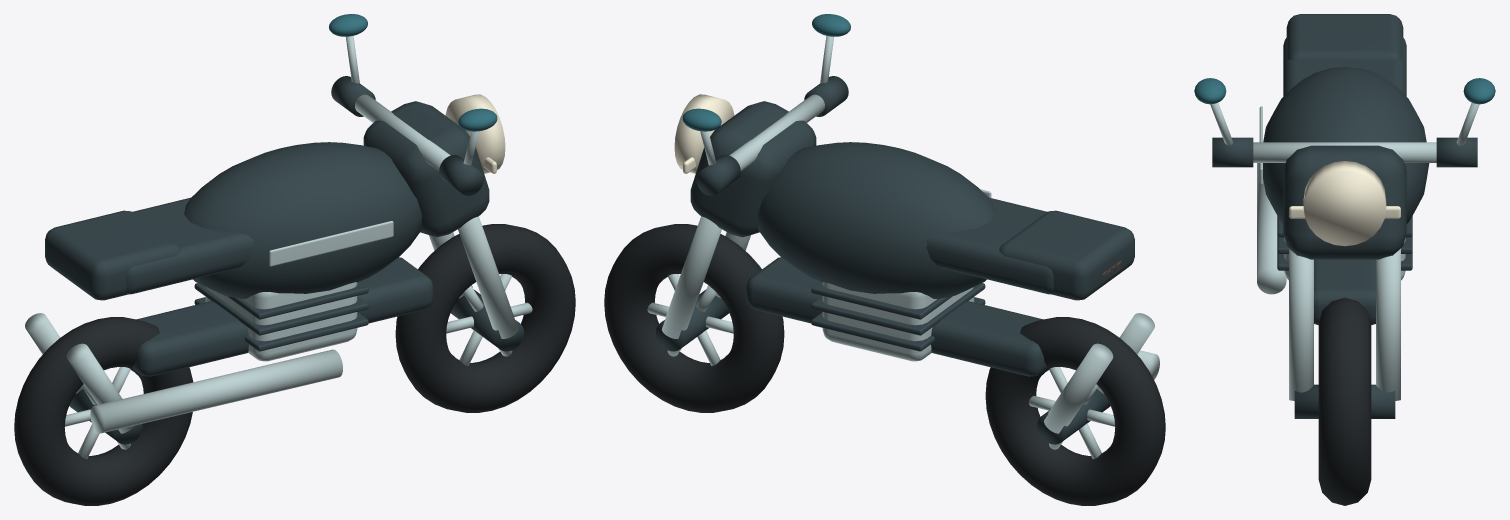
File: cafe.glb
3 views of the same model, side by side, from view 1: azimuth 30°, elevation 25°; view 2: azimuth 150°, elevation 25°; view 3: azimuth 270°, elevation 25° (orthographic). The views are drawn at different scales.
Visible parts, largest first — view 1: LR Fuel tank.003, LR Tire.009, LR Tire.008, LR Chassis.004, LR Front fairing.003, LR Exhaust.004, LR Tail fairing.003, LR Seat.004, LR Engine.004, LR Fork.018, LR Heritage tank stripe.001, LR Classic headlight.001 (+12 smaller); view 2: LR Fuel tank.003, LR Tire.009, LR Tire.008, LR Chassis.004, LR Front fairing.003, LR Tail fairing.003, LR Seat.004, LR Engine.004, LR Fork.019, LR Fork.017, LR Classic headlight.001, LR Handlebar.004 (+10 smaller); view 3: LR Fuel tank.003, LR Tire.009, LR Front fairing.003, LR Classic headlight.001, LR Tail fairing.003, LR Fork.018, LR Fork.019, LR Chassis.004, LR Seat.004, LR Exhaust.004, LR Handlebar.004, LR Axle.009 (+8 smaller).
Boxes of the visible parts, x1,y1,x2,y2 form: LR Fuel tank.003: [184, 142, 422, 298]; LR Tire.009: [395, 224, 575, 412]; LR Tire.008: [14, 317, 193, 505]; LR Chassis.004: [132, 257, 433, 376]; LR Front fairing.003: [363, 101, 489, 237]; LR Exhaust.004: [90, 349, 342, 433]; LR Tail fairing.003: [45, 210, 180, 300]; LR Seat.004: [126, 197, 253, 294]; LR Engine.004: [205, 282, 357, 361]; LR Fork.018: [458, 216, 517, 338]; LR Heritage tank stripe.001: [269, 221, 393, 266]; LR Classic headlight.001: [445, 94, 505, 173]; LR Fuel tank.003: [757, 142, 995, 298]; LR Tire.009: [604, 224, 784, 412]; LR Tire.008: [985, 317, 1165, 505]; LR Chassis.004: [746, 257, 1047, 376]; LR Front fairing.003: [690, 101, 816, 237]; LR Tail fairing.003: [999, 210, 1134, 300]; LR Seat.004: [926, 197, 1053, 294]; LR Engine.004: [822, 282, 974, 361]; LR Fork.019: [662, 216, 721, 338]; LR Fork.017: [1044, 343, 1113, 433]; LR Classic headlight.001: [674, 94, 734, 173]; LR Handlebar.004: [729, 94, 824, 170]; LR Fuel tank.003: [1263, 67, 1429, 223]; LR Tire.009: [1318, 298, 1371, 505]; LR Front fairing.003: [1283, 145, 1406, 259]; LR Classic headlight.001: [1303, 161, 1386, 246]; LR Tail fairing.003: [1286, 14, 1403, 59]; LR Fork.018: [1289, 248, 1313, 400]; LR Fork.019: [1376, 248, 1400, 400]; LR Chassis.004: [1314, 259, 1375, 324]; LR Seat.004: [1283, 37, 1406, 96]; LR Exhaust.004: [1257, 163, 1286, 294]; LR Handlebar.004: [1253, 142, 1436, 162]; LR Axle.009: [1294, 384, 1395, 418].
Size of the model in its own units: 2.91 by 1.82 by 1.32.
